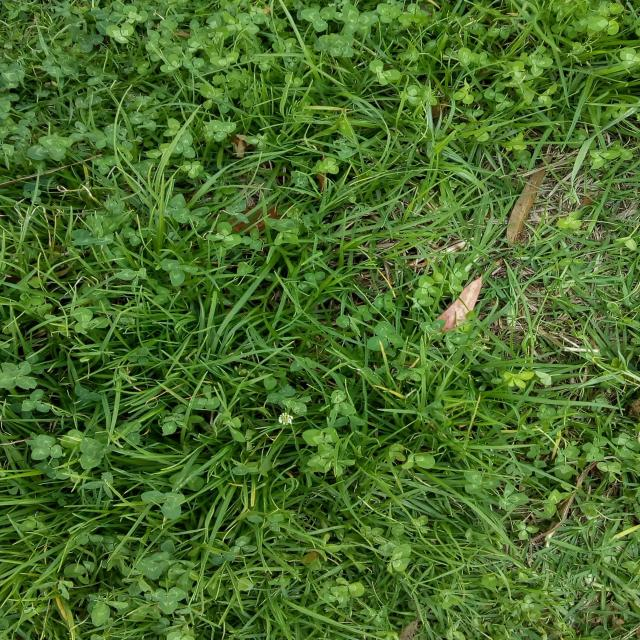Four Leaf Clover: (330, 34, 354, 57)
